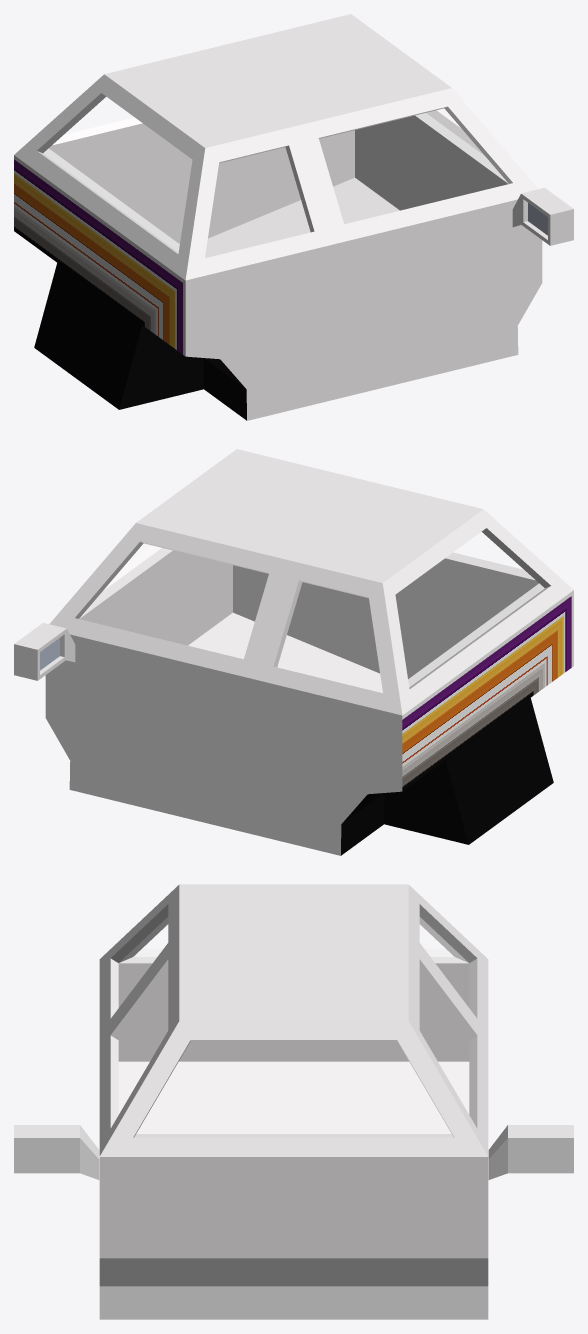
File: Car2.glb
The picture shows the model from 3 angles, top to bottom: view 1: azimuth 30°, elevation 25°; view 2: azimuth 150°, elevation 25°; view 3: azimuth 270°, elevation 25°; orthographic projection. The views are drawn at different scales.
Visible parts, largest first — view 1: Cube.049; view 2: Cube.049; view 3: Cube.049.
Part boxes in pixels (left/top/right/bottom): Cube.049: left=14, top=14, right=573, bottom=420; Cube.049: left=14, top=449, right=573, bottom=855; Cube.049: left=14, top=884, right=573, bottom=1319.
Size of the model in its own units: 0.0825 by 0.0516 by 0.0929.
Materials: 1 (1 with a texture image).
